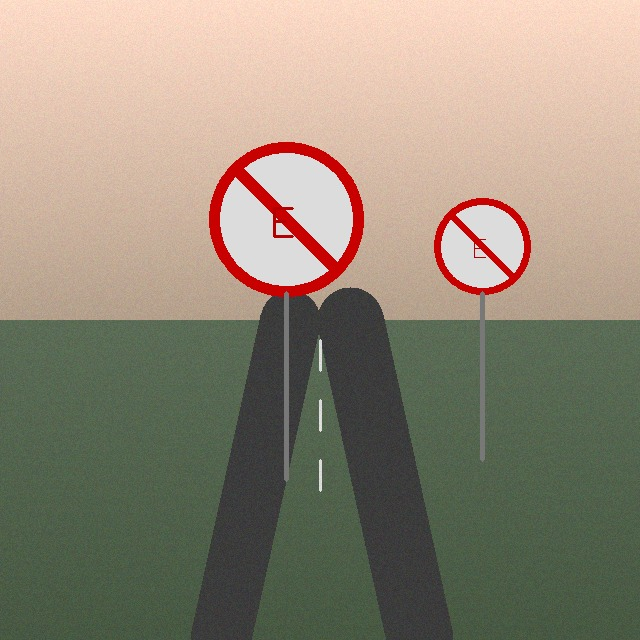no_estacionar: (212, 145, 360, 293), (435, 199, 529, 293)
